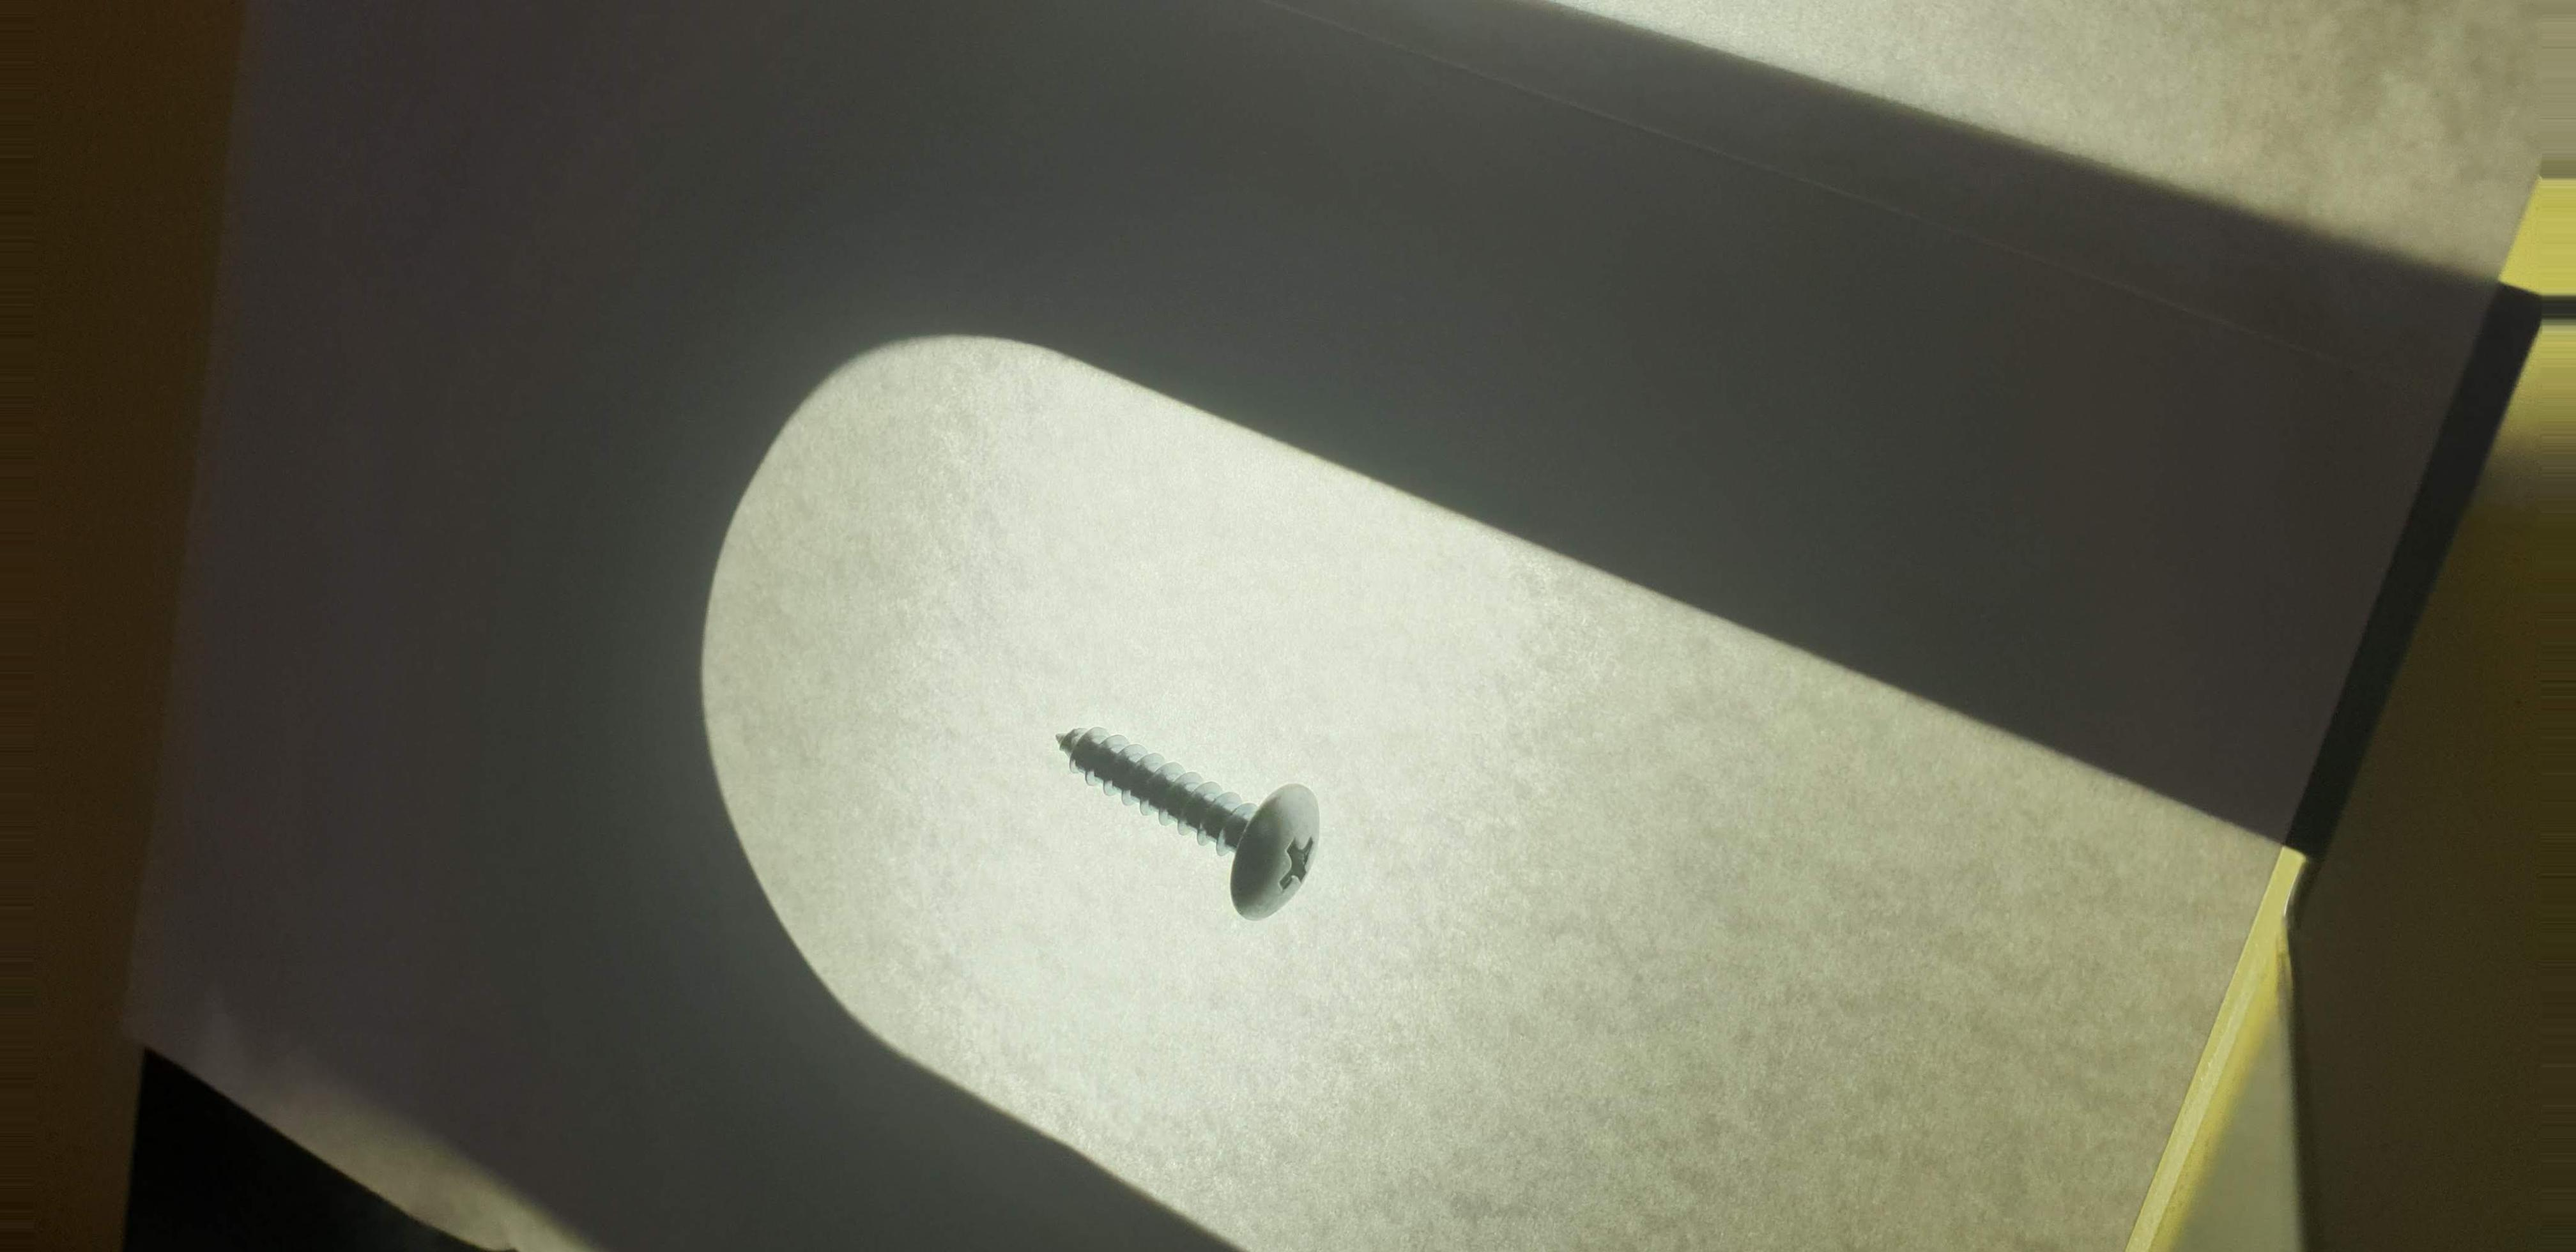S002: (1017, 680, 1367, 966)
